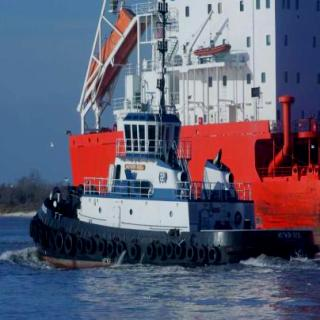Tug Boat: (23, 0, 320, 263)
